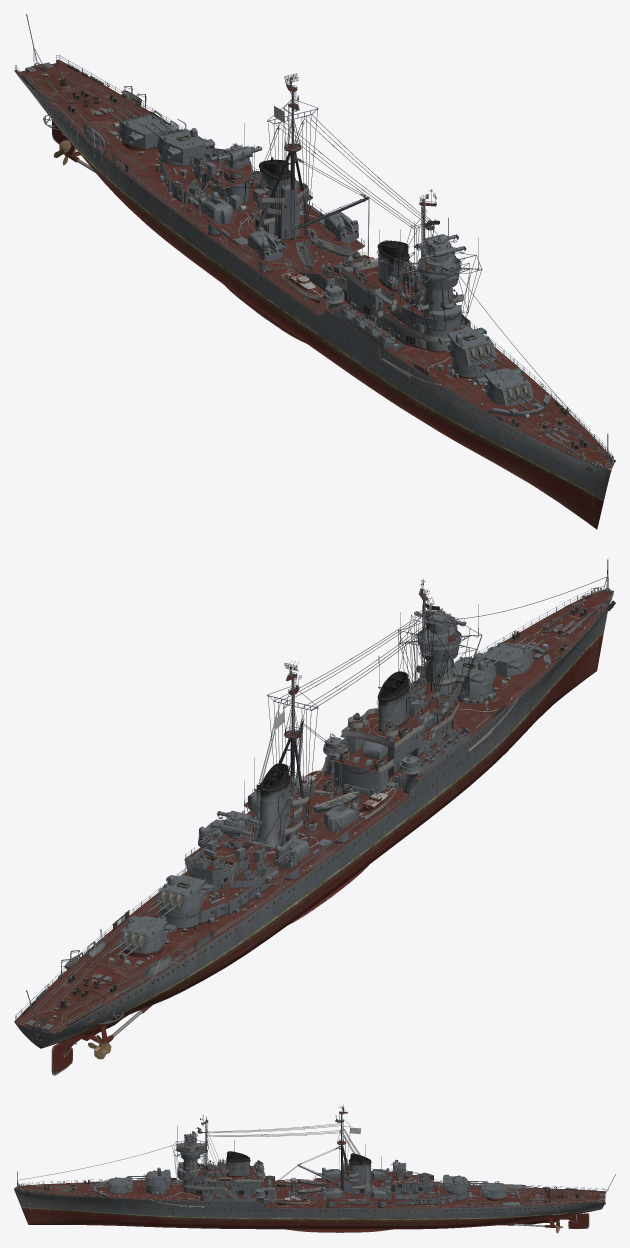
Rendered from chapayev_war_thunder-maximum-compressed.glb.
3 views of the same model, one above another, from view 1: azimuth 30°, elevation 25°; view 2: azimuth 150°, elevation 25°; view 3: azimuth 270°, elevation 25° (orthographic). The views are drawn at different scales.
Parts seen in each view (by area): view 1: Object_76, Object_43, Object_21, Object_73, Object_40, Object_74, Object_41, Object_44, Object_47, Object_46, Object_35, Object_58 (+17 smaller); view 2: Object_76, Object_43, Object_21, Object_73, Object_37, Object_38, Object_74, Object_44, Object_45, Object_46, Object_40, Object_41 (+15 smaller); view 3: Object_43, Object_76, Object_21, Object_73, Object_40, Object_44, Object_74, Object_38, Object_45, Object_46, Object_47, Object_41 (+21 smaller).
Boxes of the visible parts, <box> form: Object_76: <box>15,60,612,467</box>; Object_43: <box>14,60,613,501</box>; Object_21: <box>52,120,603,529</box>; Object_73: <box>71,87,610,459</box>; Object_40: <box>383,263,496,391</box>; Object_74: <box>52,83,569,438</box>; Object_41: <box>398,243,482,320</box>; Object_44: <box>15,55,410,360</box>; Object_47: <box>26,14,593,445</box>; Object_46: <box>250,157,308,239</box>; Object_35: <box>256,81,435,295</box>; Object_58: <box>37,66,492,371</box>; Object_76: <box>15,590,612,1033</box>; Object_43: <box>14,559,613,1046</box>; Object_21: <box>17,634,603,1075</box>; Object_73: <box>62,576,610,980</box>; Object_37: <box>334,678,435,795</box>; Object_38: <box>141,847,300,942</box>; Object_74: <box>47,627,585,997</box>; Object_44: <box>14,577,608,1037</box>; Object_45: <box>321,586,611,805</box>; Object_46: <box>247,777,308,849</box>; Object_40: <box>408,667,511,746</box>; Object_41: <box>398,618,481,695</box>; Object_43: <box>14,1171,605,1219</box>; Object_76: <box>15,1112,605,1208</box>; Object_21: <box>19,1150,605,1232</box>; Object_73: <box>17,1113,543,1209</box>; Object_40: <box>137,1158,229,1195</box>; Object_44: <box>195,1186,605,1211</box>; Object_74: <box>63,1160,563,1207</box>; Object_38: <box>378,1179,475,1207</box>; Object_45: <box>24,1139,278,1207</box>; Object_46: <box>341,1161,371,1194</box>; Object_47: <box>51,1160,615,1197</box>; Object_41: <box>171,1141,207,1176</box>.
Bounding box in the file's own units: 21.02 × 45.51 × 202.
Materials: 28 (28 with a texture image).
